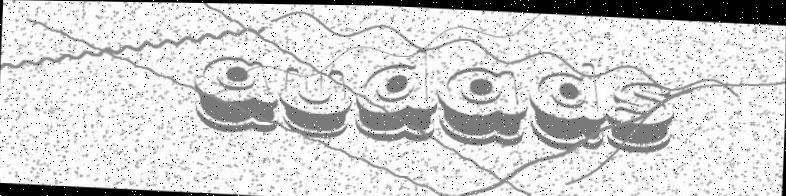a: (435, 63, 531, 146), (192, 53, 282, 134)
d: (354, 44, 443, 144), (527, 57, 609, 151)
s: (606, 78, 678, 153)
u: (276, 63, 356, 140)
